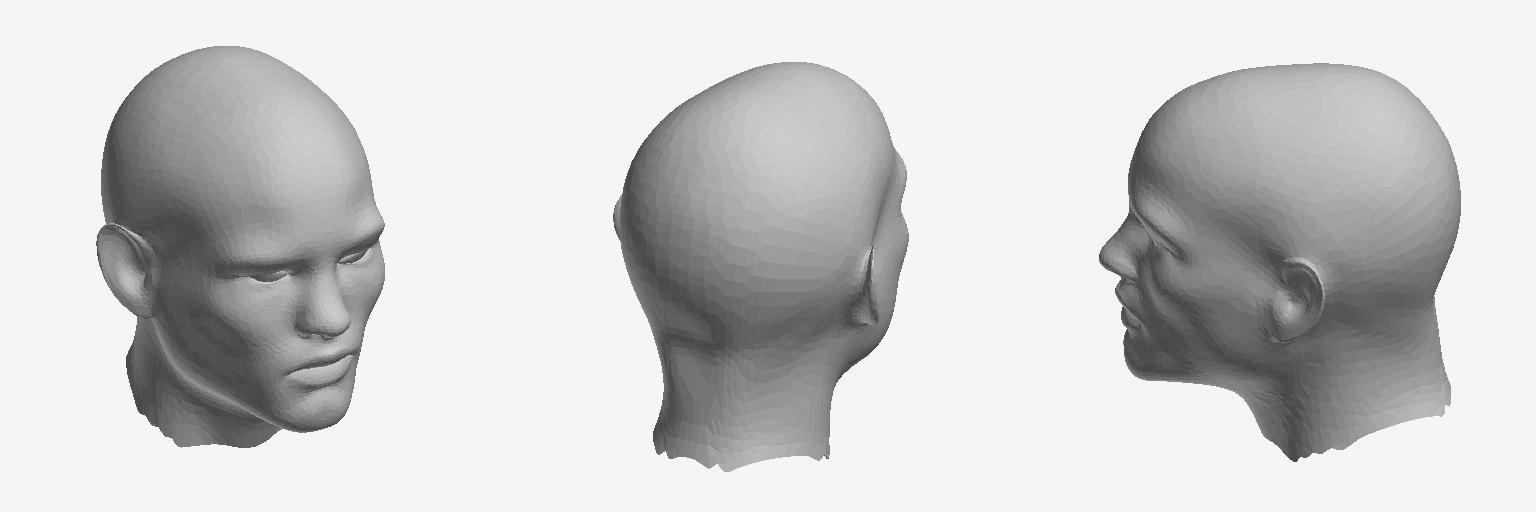
File: danny.obj
3 views of the same model, side by side, from view 1: azimuth 30°, elevation 25°; view 2: azimuth 150°, elevation 25°; view 3: azimuth 270°, elevation 25° (orthographic).
Parts seen in each view (by area): view 1: FaceBuilderHead_FaceBuilderHead_mesh; view 2: FaceBuilderHead_FaceBuilderHead_mesh; view 3: FaceBuilderHead_FaceBuilderHead_mesh.
Boxes of the visible parts, box(x1,y1,x2,y2) form: FaceBuilderHead_FaceBuilderHead_mesh: box(96, 46, 384, 447); FaceBuilderHead_FaceBuilderHead_mesh: box(613, 62, 908, 471); FaceBuilderHead_FaceBuilderHead_mesh: box(1099, 63, 1460, 461).
Size of the model in its own units: 1.5 by 1.96 by 1.77.